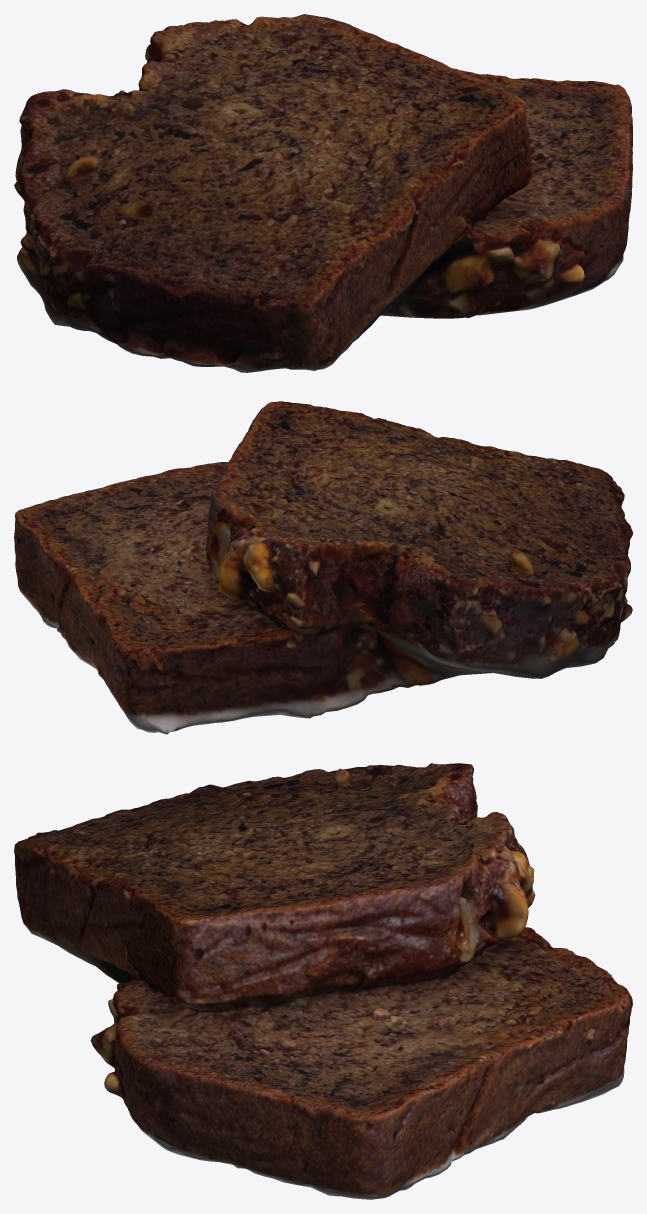
Rendered from bananahleb.glb.
3 renders of one model, top to bottom at view 1: azimuth 30°, elevation 25°; view 2: azimuth 150°, elevation 25°; view 3: azimuth 270°, elevation 25°, orthographic. The views are drawn at different scales.
Bounding box in the file's own units: 0.1284 × 0.0403 × 0.1083.
1 material, 1 textured.
